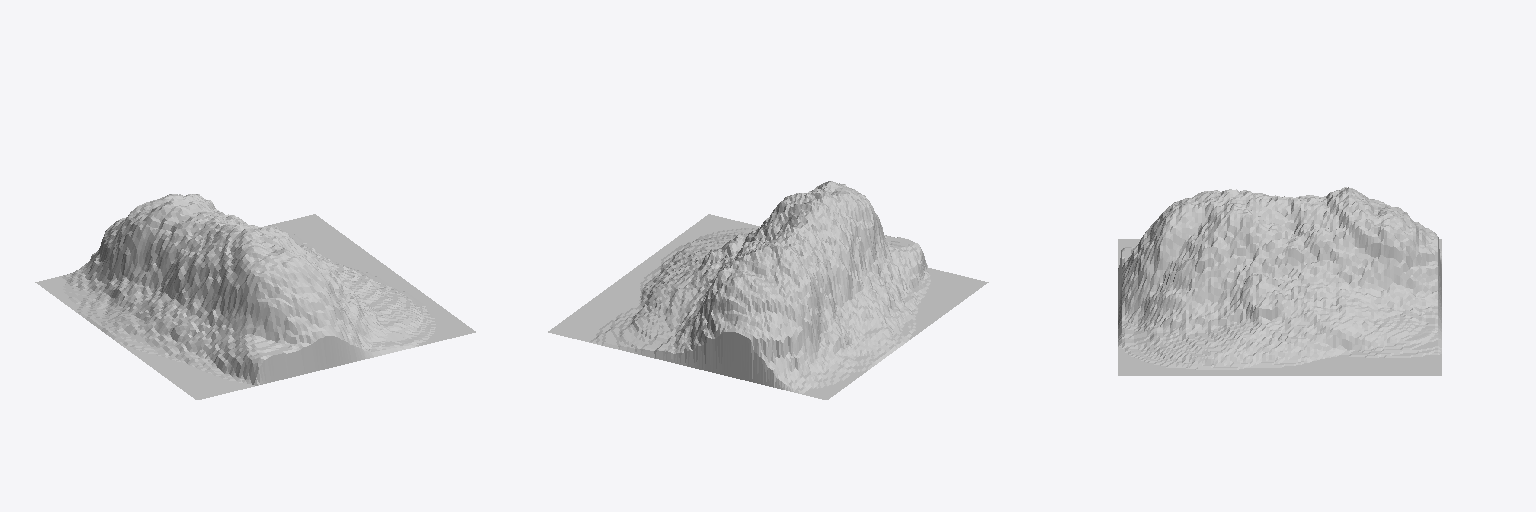
Rendered from Cave.obj.
The picture shows the model from 3 angles: view 1: azimuth 30°, elevation 25°; view 2: azimuth 150°, elevation 25°; view 3: azimuth 270°, elevation 25°; orthographic projection.
Visible parts, largest first — view 1: Cave; view 2: Cave; view 3: Cave.
Part boxes in pixels (bbox=[...]): Cave: bbox=[35, 194, 475, 399]; Cave: bbox=[548, 181, 988, 399]; Cave: bbox=[1118, 187, 1441, 375].
Bounding box in the file's own units: 100 × 35.04 × 100.